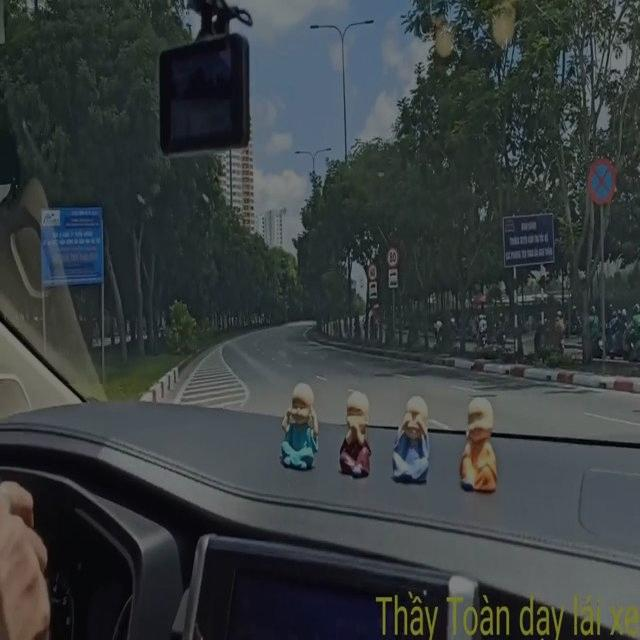Biển phụ: (367, 278, 381, 297), (388, 267, 398, 287)
Cấm dừng - Cấm đỗ: (584, 151, 616, 206)
Giới hạn tốc độ: 60Km/h: (367, 261, 379, 282)
Giới hạn tốc độ: 80Km/h: (386, 244, 398, 269)
Khác: (38, 201, 108, 286), (501, 211, 555, 266)
